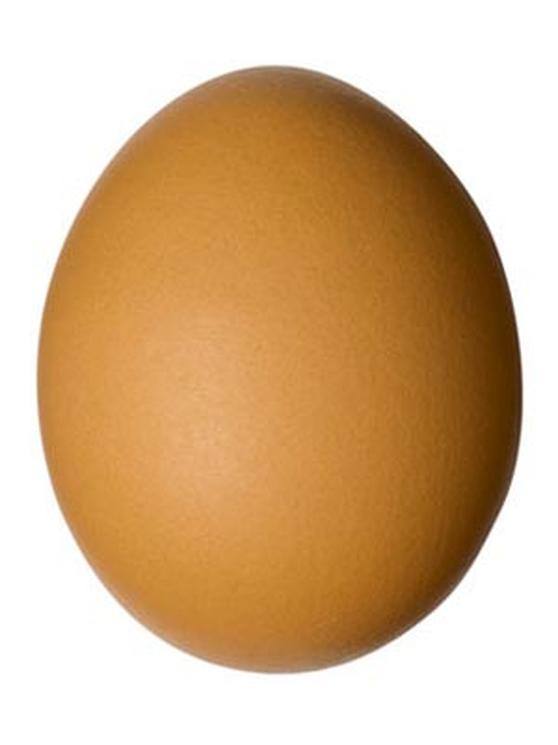egg: (38, 59, 522, 673)
